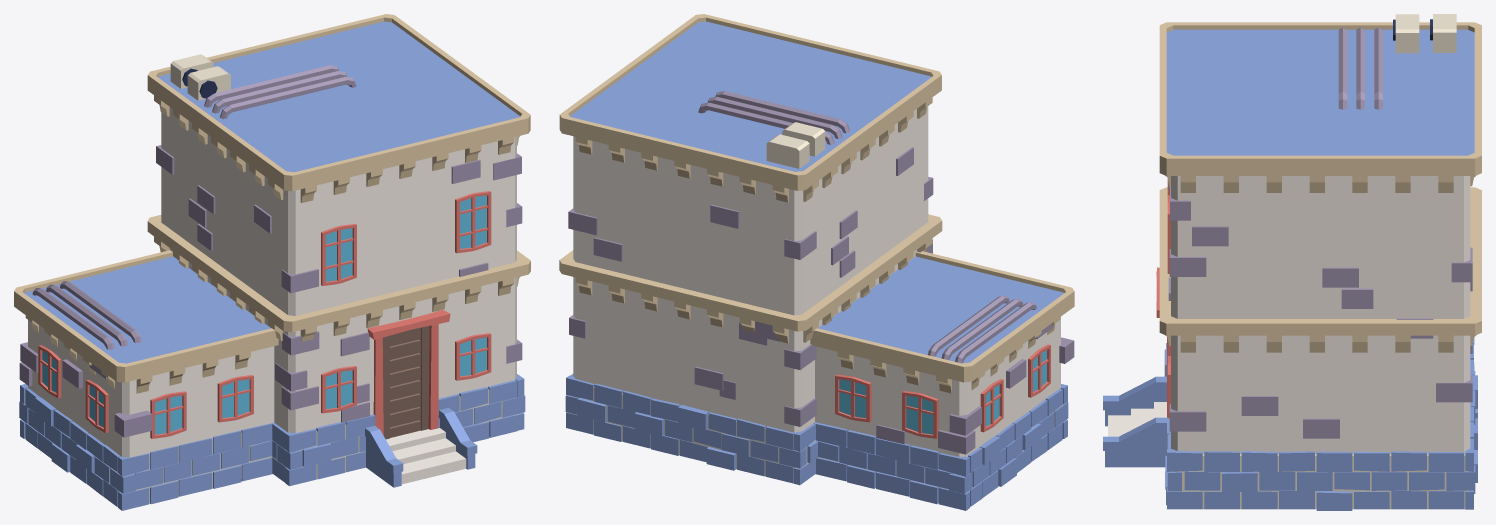
Rendered from 2Story_Sidehouse_Mat.obj.
3 renders of one model, left to right at view 1: azimuth 30°, elevation 25°; view 2: azimuth 150°, elevation 25°; view 3: azimuth 270°, elevation 25°, orthographic. The views are drawn at different scales.
Parts seen in each view (by area): view 1: 2Story_Sidehouse_Mat_Cube.023; view 2: 2Story_Sidehouse_Mat_Cube.023; view 3: 2Story_Sidehouse_Mat_Cube.023.
Boxes of the visible parts, x1=… form: 2Story_Sidehouse_Mat_Cube.023: x1=14, y1=14, x2=530, y2=510; 2Story_Sidehouse_Mat_Cube.023: x1=559, y1=14, x2=1074, y2=510; 2Story_Sidehouse_Mat_Cube.023: x1=1103, y1=14, x2=1481, y2=510.
Bounding box in the file's own units: 3.47 × 2.76 × 2.53.
